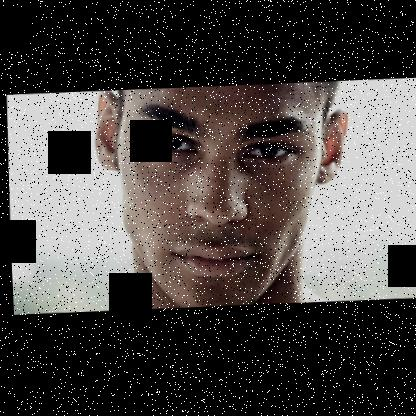Male: (88, 79, 353, 317)
